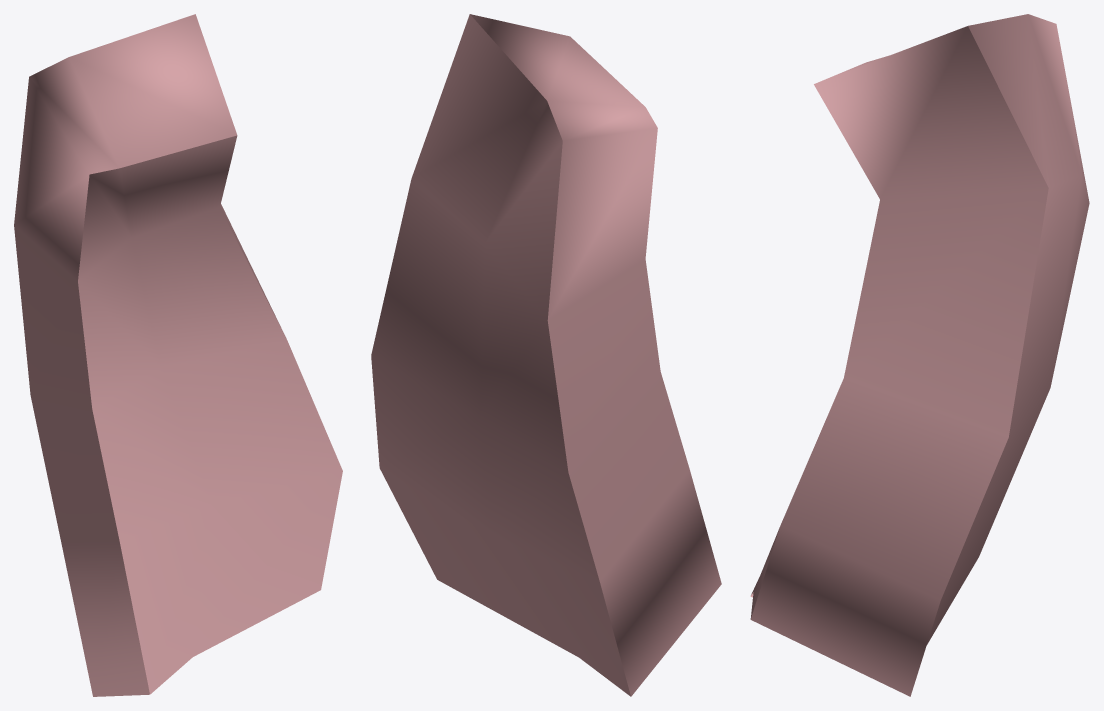
The picture shows the model from 3 angles, left to right: view 1: azimuth 30°, elevation 25°; view 2: azimuth 150°, elevation 25°; view 3: azimuth 270°, elevation 25°; orthographic projection. The views are drawn at different scales.
Visible parts, largest first — view 1: ZA_98fa2d075a831e7e; view 2: ZA_98fa2d075a831e7e; view 3: ZA_98fa2d075a831e7e.
Part boxes in pixels (<box>): ZA_98fa2d075a831e7e: <box>14,14,342,696</box>; ZA_98fa2d075a831e7e: <box>371,14,721,696</box>; ZA_98fa2d075a831e7e: <box>750,14,1089,696</box>.
Size of the model in its own units: 0.00527 by 0.0133 by 0.00573.
